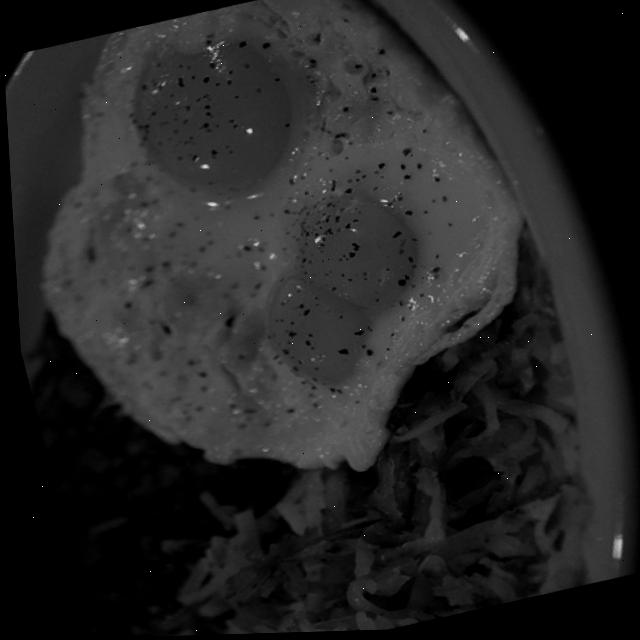鸡蛋料理: (35, 0, 507, 460)
